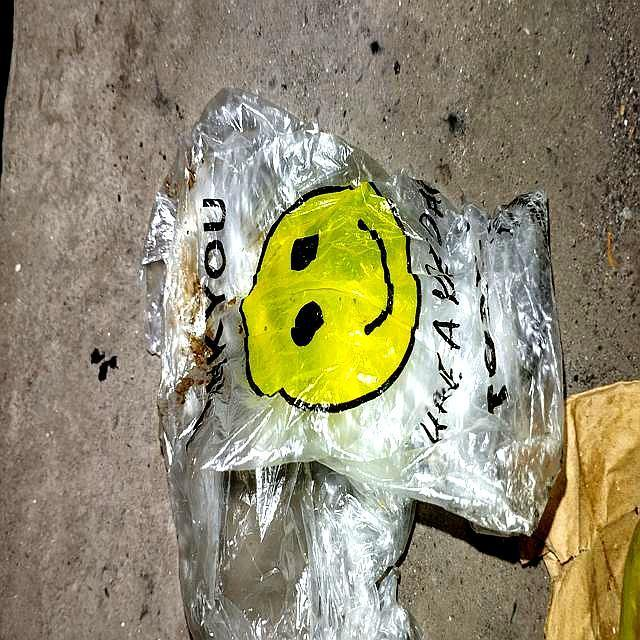Non-biodegradable: (143, 83, 573, 640)
